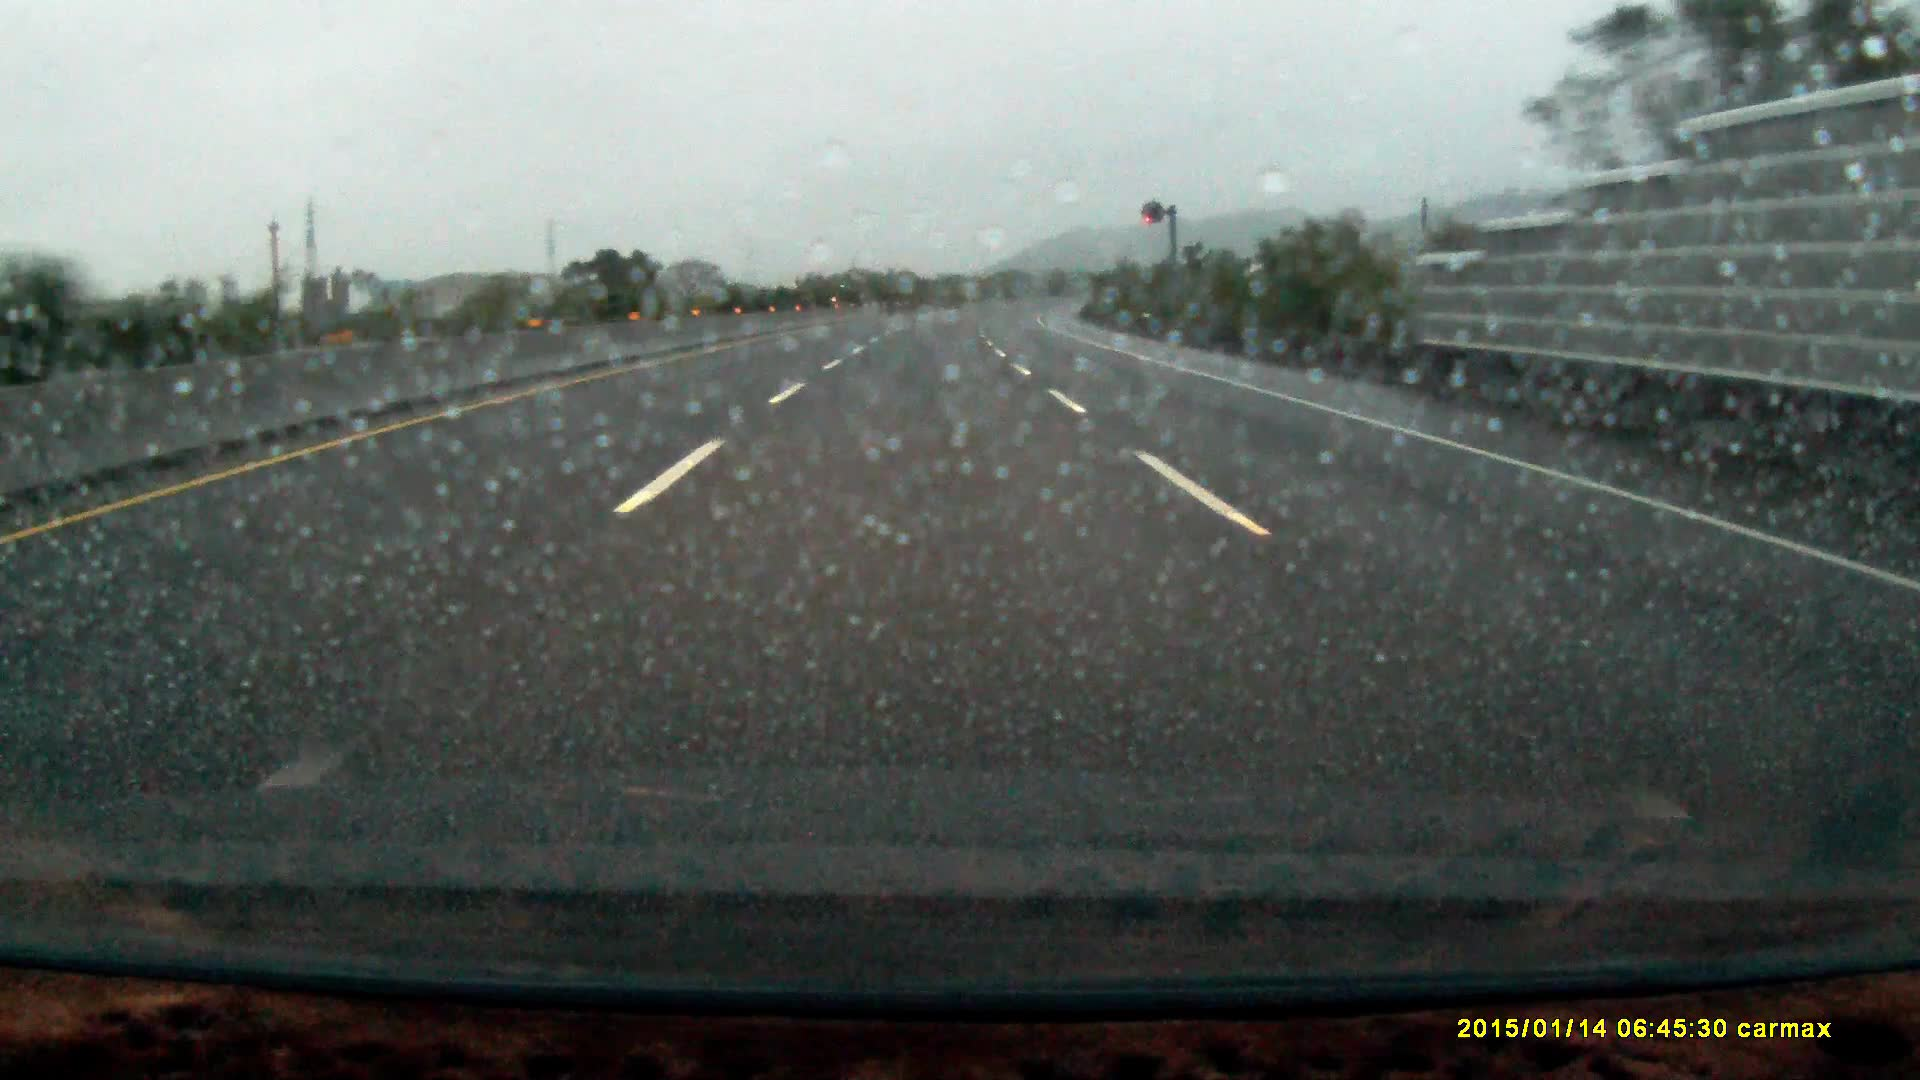vehicle: (832, 269, 874, 307)
